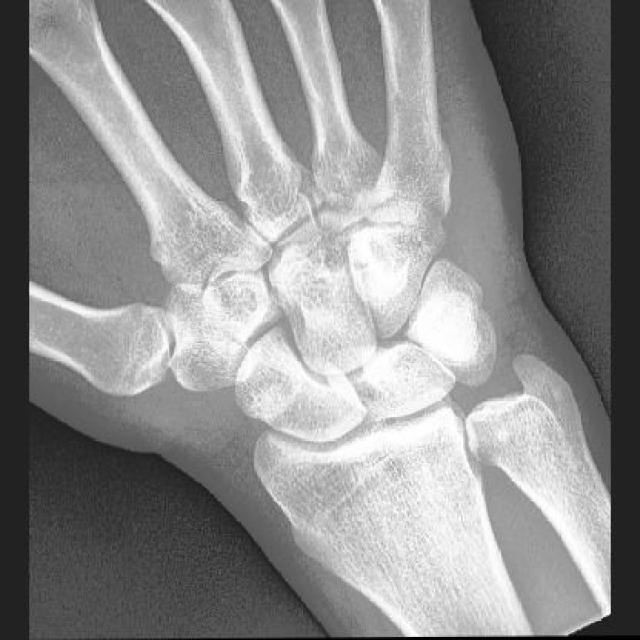Fracture: (205, 252, 274, 328)
